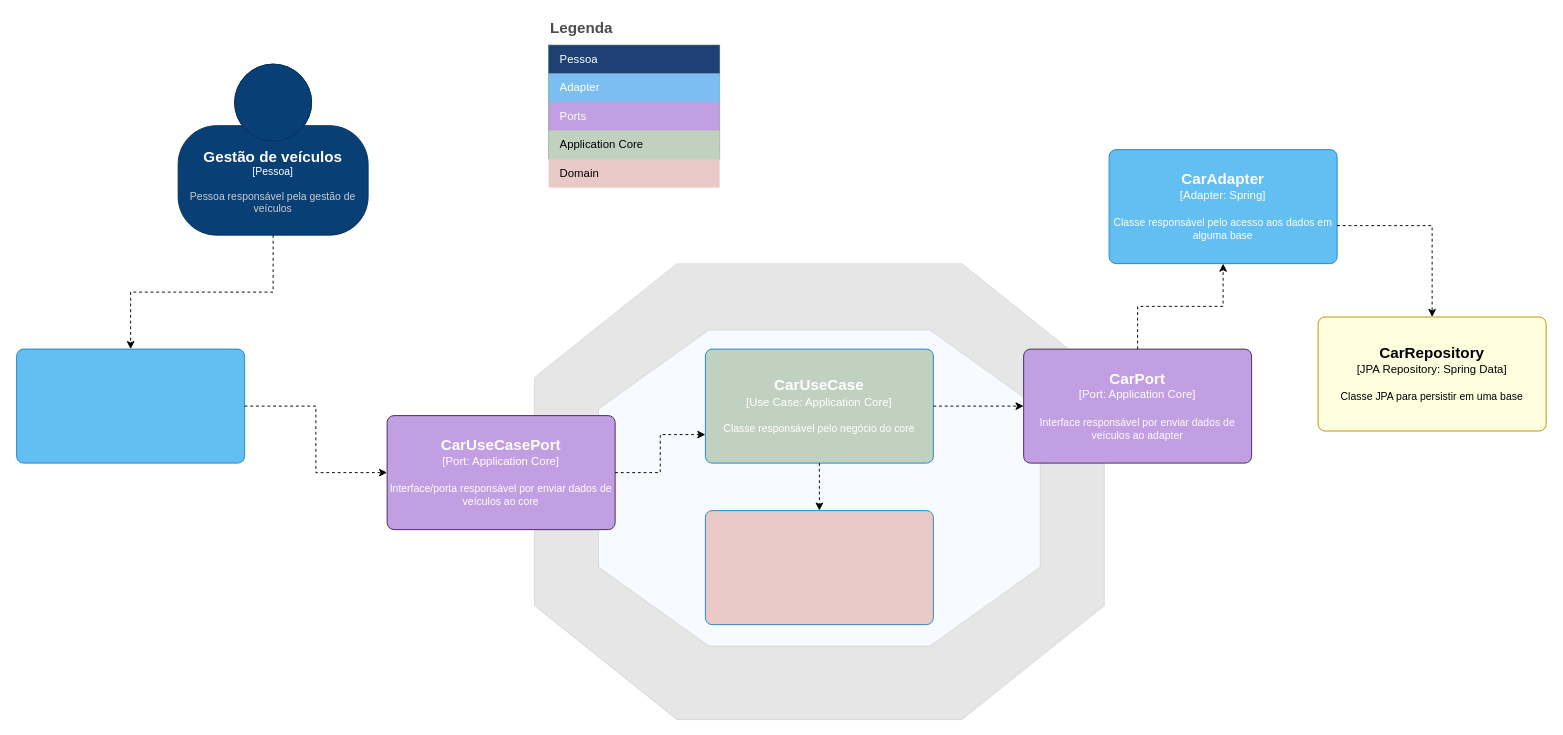
The diagram is 1563 pixels wide and 735 high, and some of its shapes have lost their labels. Each missing label, with the centre of its shape:
Car [Domain: Application Core] Classe de domínio: point (818, 567)
CarController [Adapter: Spring] Controller responsável pelo serviço REST: point (130, 405)
